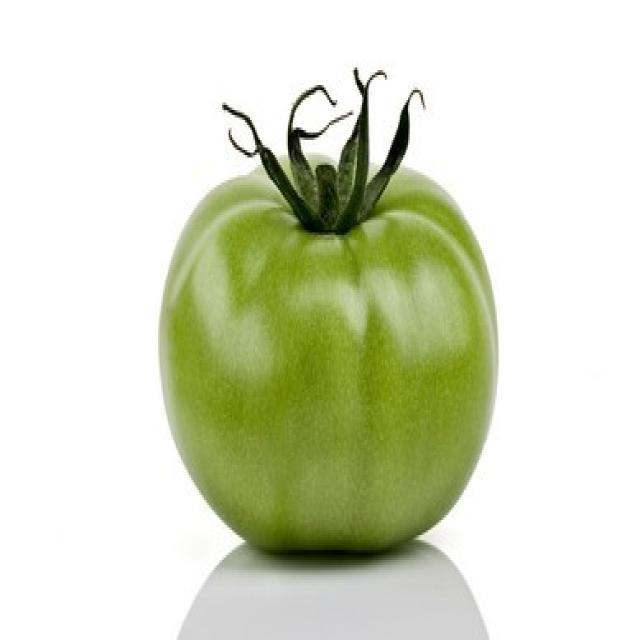kirmizi: (167, 107, 506, 555)
yesil: (144, 105, 158, 116)
